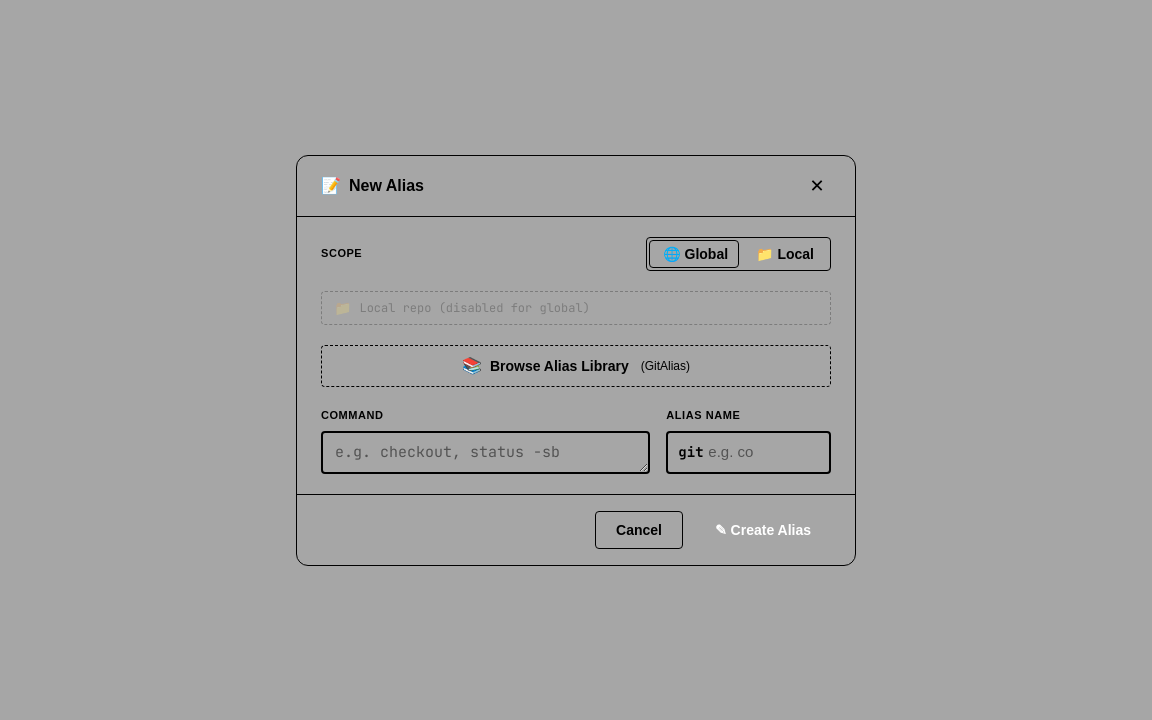
aliasForm › shows validation errors for empty fields
Click the button "✎ Create Alias": click(763, 530) [695,510,831,548]
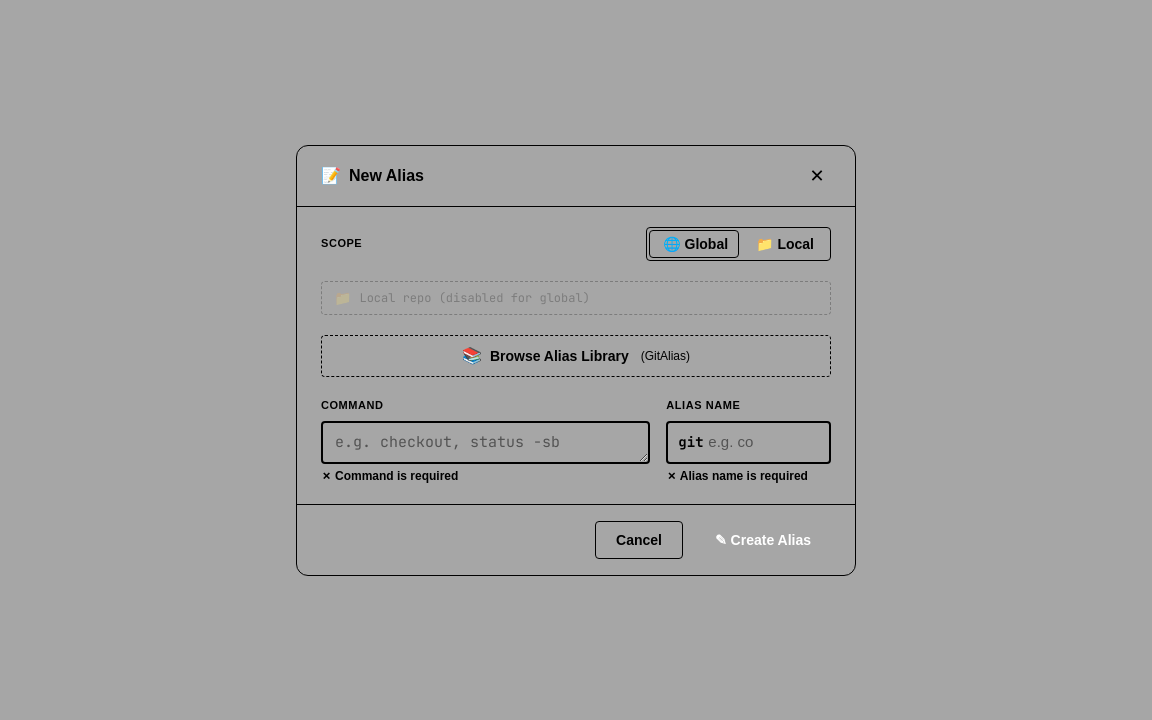
Result: the text "✗ Alias name is required" is shown at [666,468,831,484]
Result: the text "✗ Command is required" is shown at [321,468,458,482]
